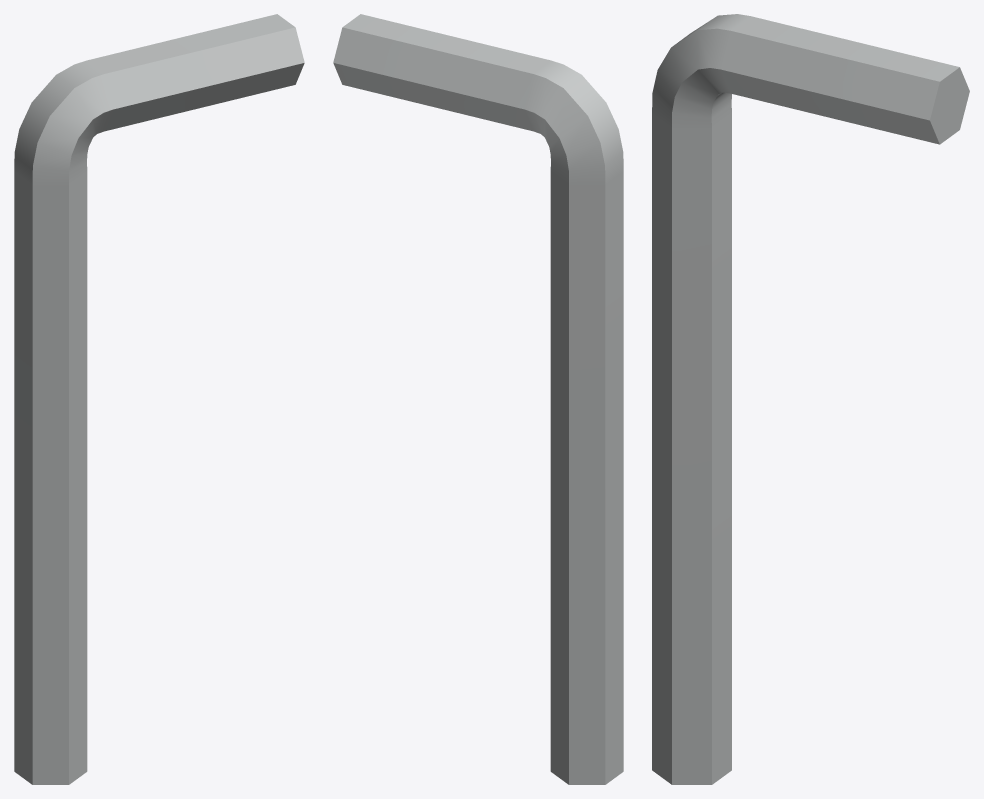
The model's file is Allen Wrench5.fbx.
3 views of the same model, side by side, from view 1: azimuth 30°, elevation 25°; view 2: azimuth 150°, elevation 25°; view 3: azimuth 330°, elevation 25° (orthographic). The views are drawn at different scales.
Visible parts, largest first — view 1: Cylinder.004; view 2: Cylinder.004; view 3: Cylinder.004.
Boxes of the visible parts, left/top/right/bottom form: Cylinder.004: left=14, top=14, right=304, bottom=784; Cylinder.004: left=333, top=14, right=623, bottom=784; Cylinder.004: left=652, top=14, right=969, bottom=784.
Bounding box in the file's own units: 5.24 × 13.19 × 1.26.
1 material, 1 textured.
